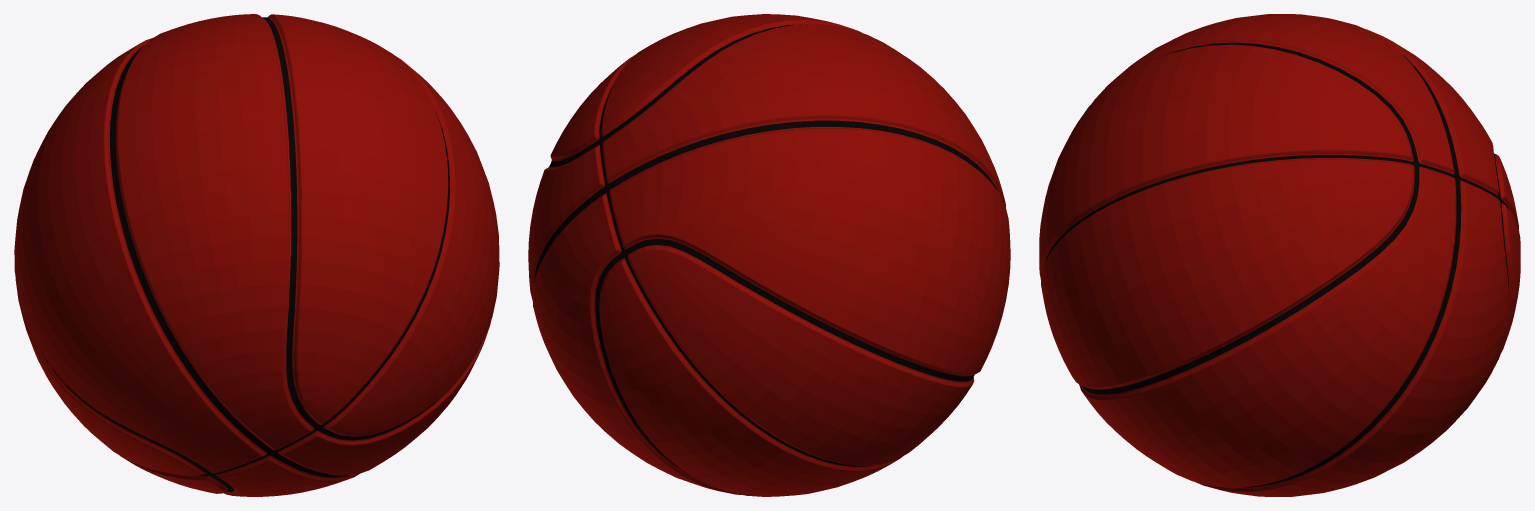
File: BasketBall.FBX
3 renders of one model, left to right at view 1: azimuth 30°, elevation 25°; view 2: azimuth 150°, elevation 25°; view 3: azimuth 270°, elevation 25°, orthographic.
Visible parts, largest first — view 1: Sphere01; view 2: Sphere01; view 3: Sphere01.
Boxes of the visible parts, x1=… form: Sphere01: x1=14, y1=14, x2=499, y2=496; Sphere01: x1=528, y1=14, x2=1010, y2=496; Sphere01: x1=1039, y1=14, x2=1520, y2=496.
Size of the model in its own units: 55.58 by 55.62 by 55.37.
